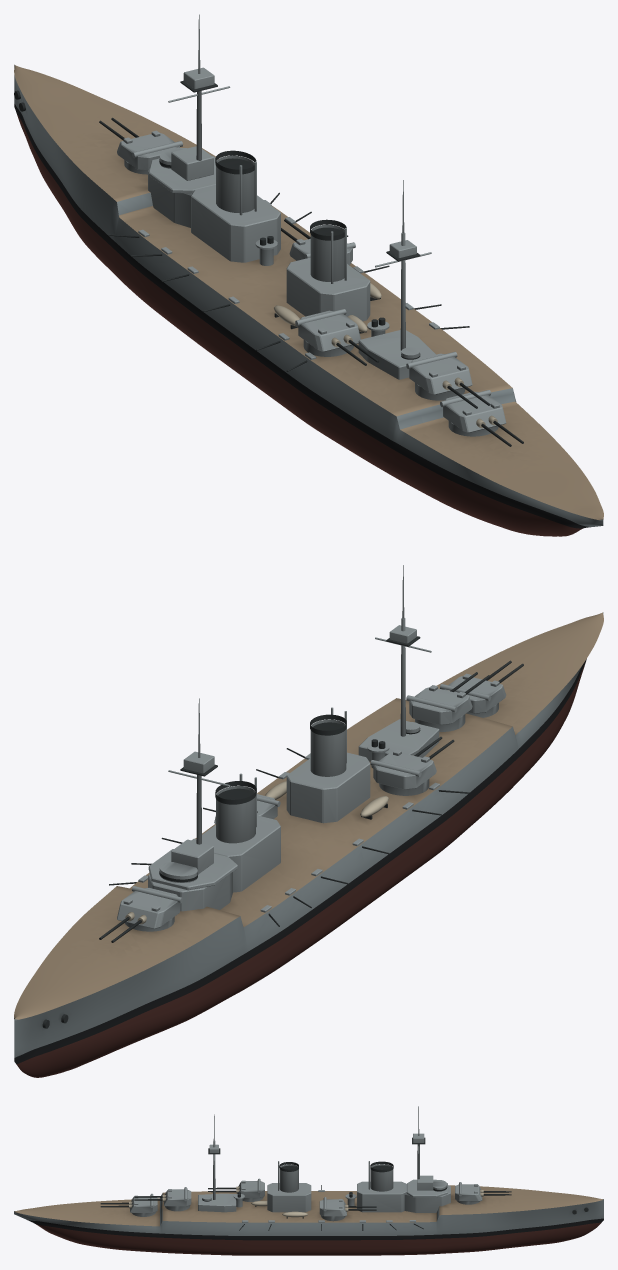
The model's file is sms-seydlitz.glb.
The picture shows the model from 3 angles, top to bottom: view 1: azimuth 30°, elevation 25°; view 2: azimuth 150°, elevation 25°; view 3: azimuth 270°, elevation 25°; orthographic projection. The views are drawn at different scales.
Parts seen in each view (by area): view 1: sms-seydlitz; view 2: sms-seydlitz; view 3: sms-seydlitz.
Boxes of the visible parts, <box> form: sms-seydlitz: <box>14,14,603,536</box>; sms-seydlitz: <box>14,565,603,1077</box>; sms-seydlitz: <box>14,1106,603,1255</box>.
Size of the model in its own units: 36.56 by 51.2 by 201.
